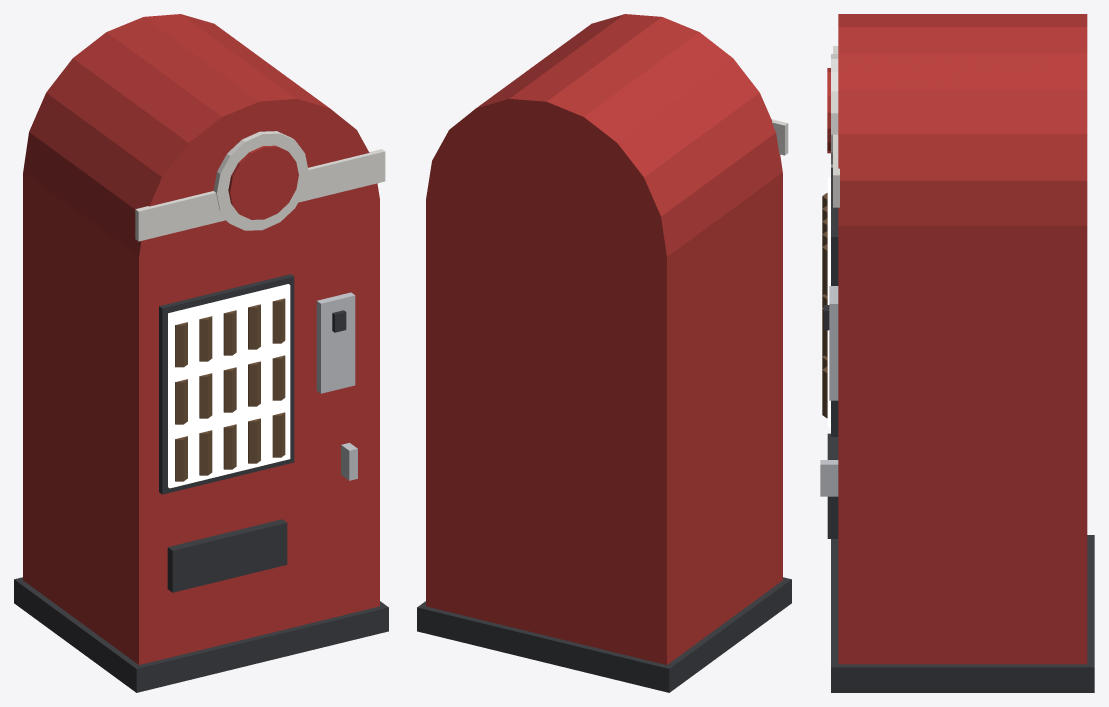
File: soda_machine.glb
3 views of the same model, side by side, from view 1: azimuth 30°, elevation 25°; view 2: azimuth 150°, elevation 25°; view 3: azimuth 270°, elevation 25° (orthographic). The views are drawn at different scales.
Visible parts, largest first — view 1: soda_machine; view 2: soda_machine; view 3: soda_machine.
Boxes of the visible parts, bbox=[...] form: soda_machine: bbox=[14, 14, 388, 692]; soda_machine: bbox=[417, 14, 791, 692]; soda_machine: bbox=[820, 14, 1094, 692].
Size of the model in its own units: 0.88 by 1.86 by 0.77.
